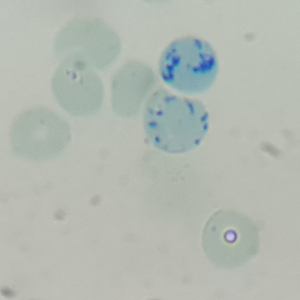aggregate reticulocyte: (139, 87, 212, 156), (157, 35, 220, 95)
erythrocyte: (50, 14, 123, 71), (200, 206, 262, 271), (50, 48, 106, 118)
punctate reticulocyte: (8, 105, 74, 163), (108, 58, 159, 121)
